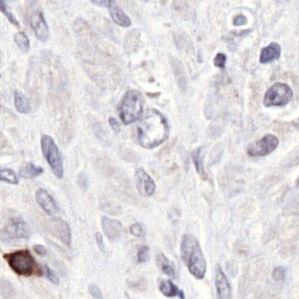Lymphocyte: (5, 247, 39, 277)
